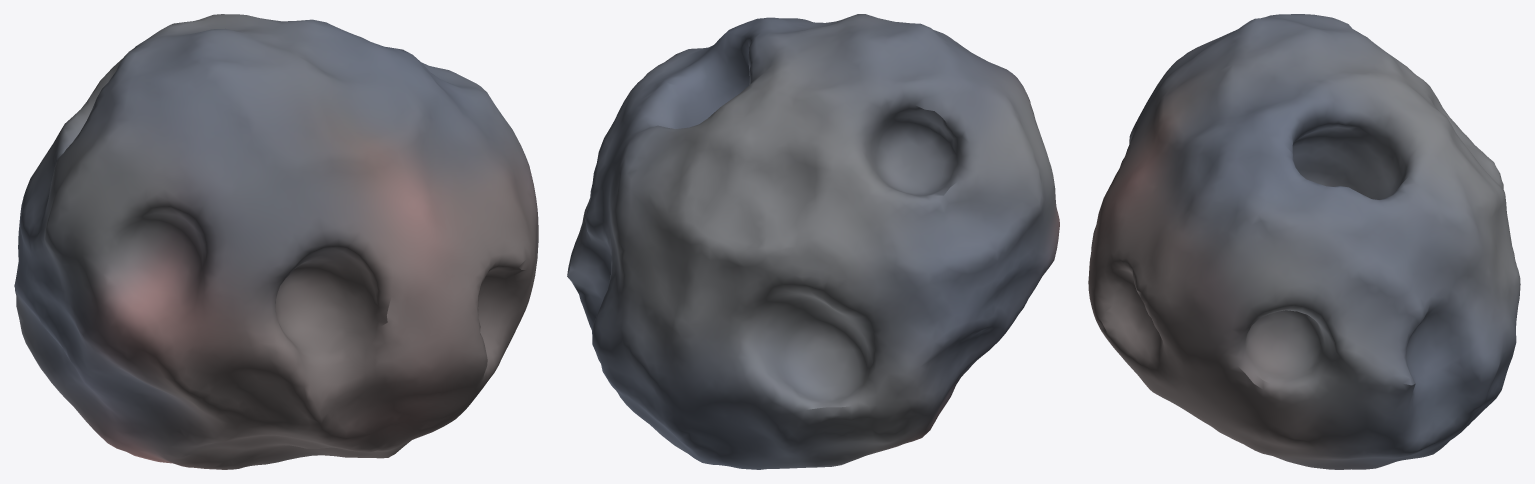
Rendered from asteroid2.glb.
3 renders of one model, left to right at view 1: azimuth 30°, elevation 25°; view 2: azimuth 150°, elevation 25°; view 3: azimuth 270°, elevation 25°, orthographic. The views are drawn at different scales.
Visible parts, largest first — view 1: Object_2; view 2: Object_2; view 3: Object_2.
Part boxes in pixels (x1=…): Object_2: x1=14, y1=14, x2=538, y2=469; Object_2: x1=567, y1=14, x2=1059, y2=469; Object_2: x1=1088, y1=14, x2=1520, y2=469.
Size of the model in its own units: 3.2 by 2.97 by 3.02.
